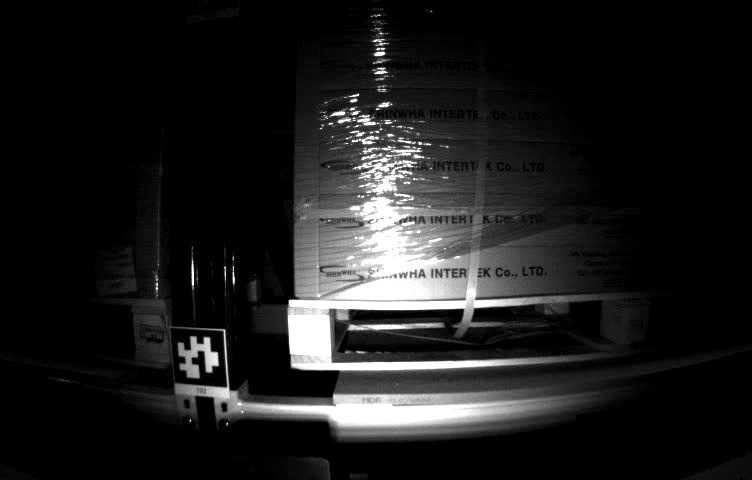True Barcode: (89, 248, 140, 294)
